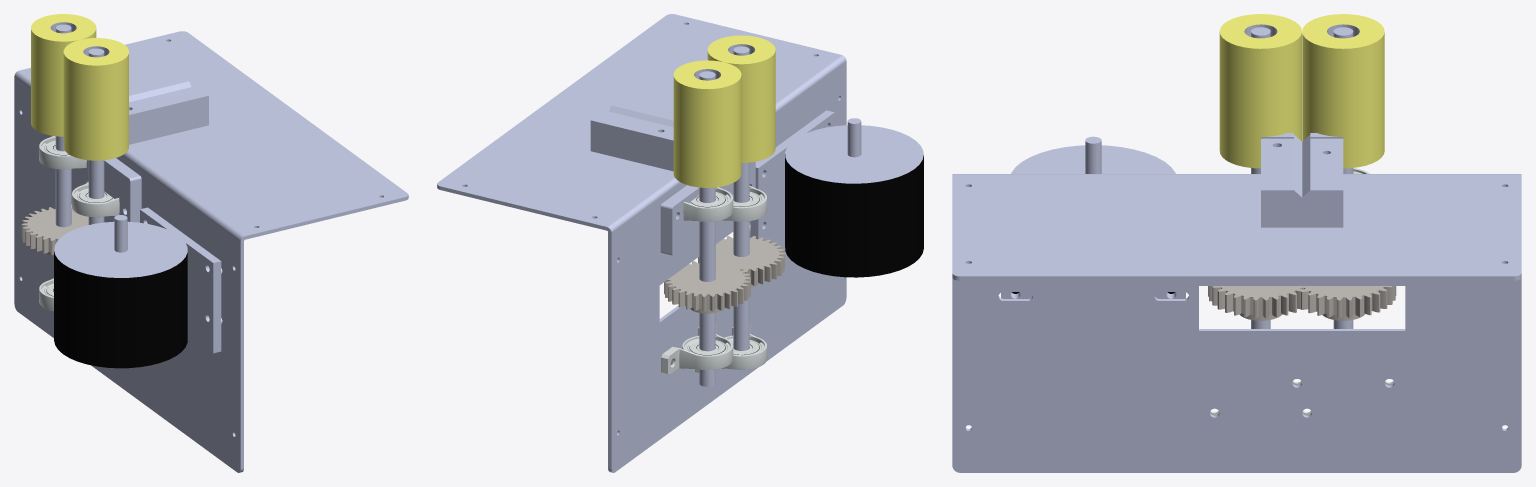
File: Renuka_Swaroop_Memorial_Girls_Highschool.glb
3 renders of one model, left to right at view 1: azimuth 30°, elevation 25°; view 2: azimuth 150°, elevation 25°; view 3: azimuth 270°, elevation 25°, orthographic. The views are drawn at different scales.
Bounding box in the file's own units: 0.257 × 0.285 × 0.345.
